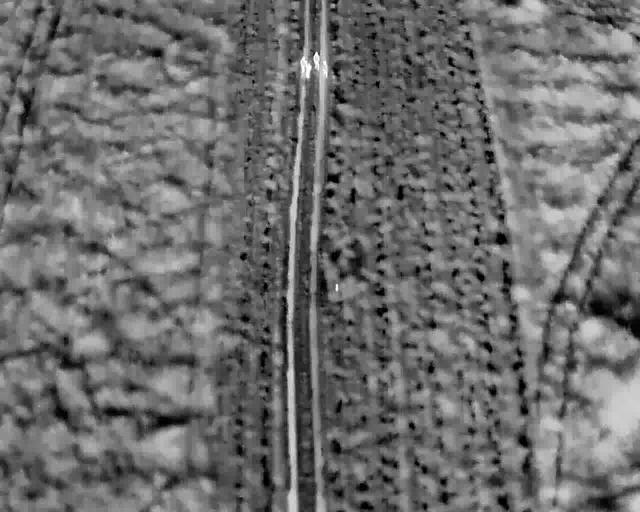person: (311, 50, 322, 70), (320, 59, 330, 79), (298, 55, 307, 75), (304, 59, 312, 79)
